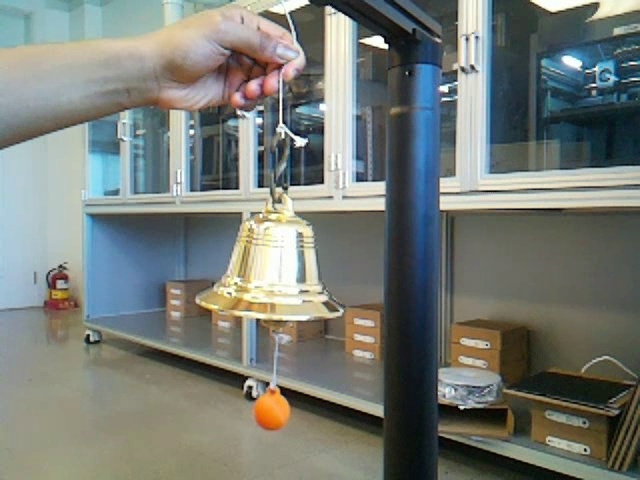bell: (192, 194, 344, 320)
pole: (384, 77, 445, 480)
